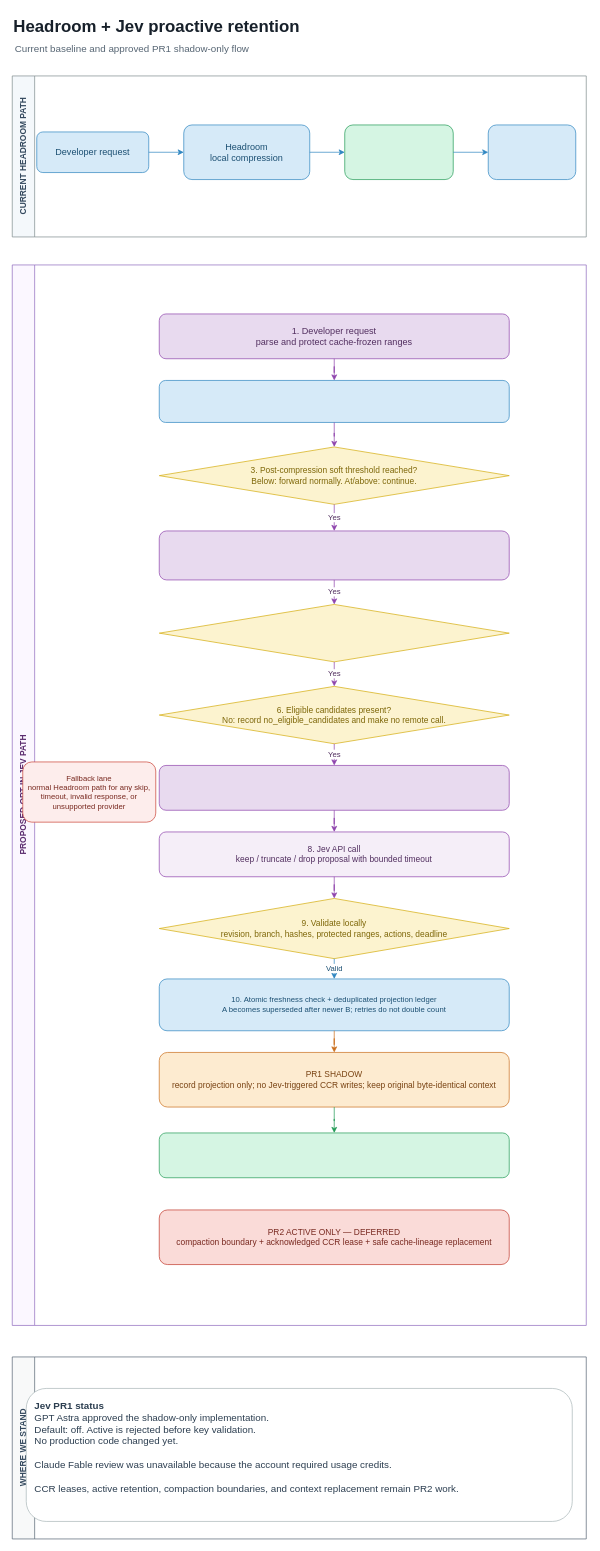
Some shapes in this 600 by 1551 pixel diagram are drawn without their labels. The centre of each missing label's shape, as x and y in pixels:
2. Existing local live-zone compression: the point at 334,401
4. Shared Jev-trigger admission per-session/branch sequence + provider gate: the point at 334,555
5. Durable session / branch / revision available? No: fallback. Yes: continue.: the point at 334,633
7. Build bounded PR1 decision view candidate hashes and allowed fields only: the point at 334,787
CCR store originals + marker: the point at 398,152
Final context sent to the target model: the point at 334,1155
Target model receives final context: the point at 532,152
